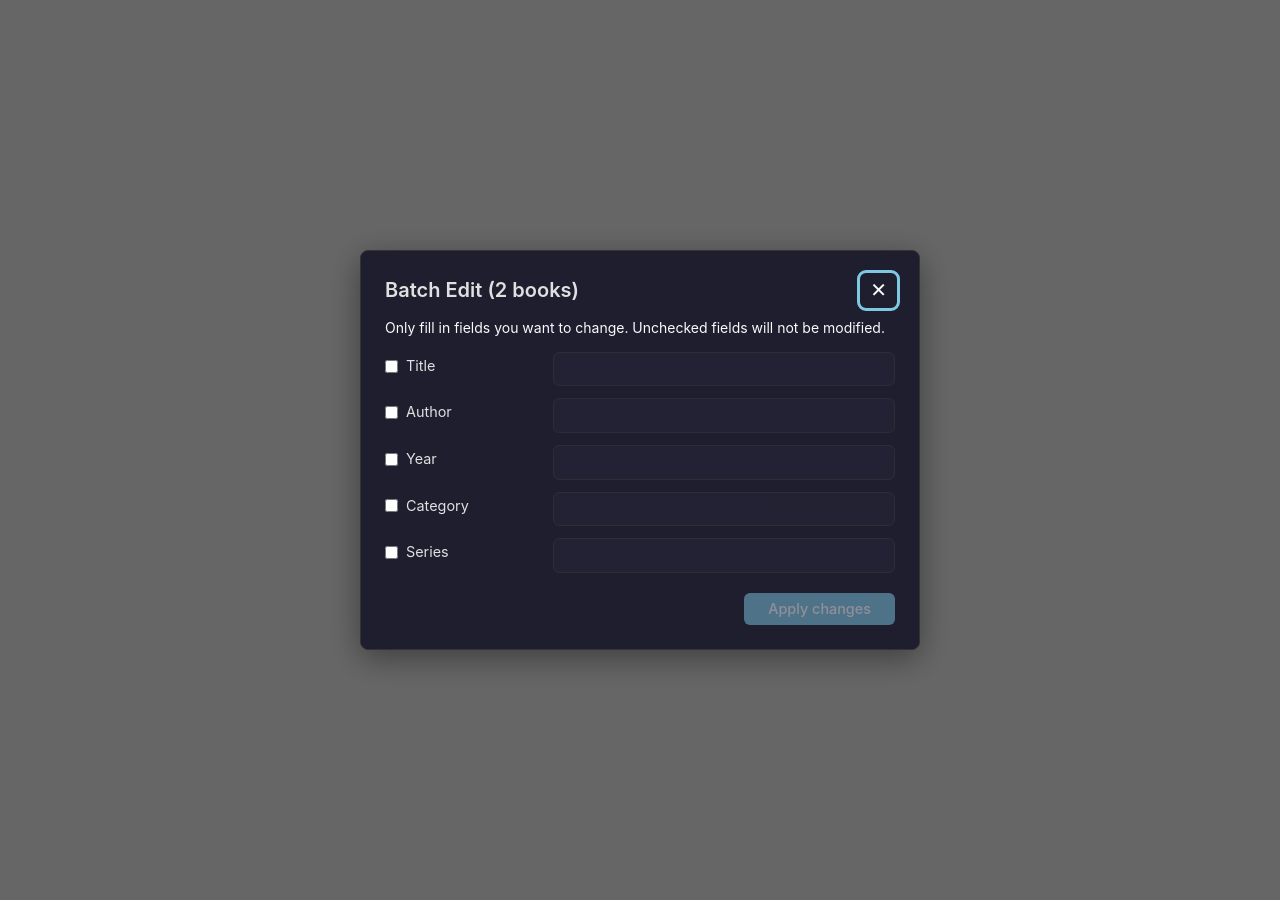
Scenario: BatchEditPanel › shows partial failure results
This screenshot has width=1280, height=900.
Click the checkbox labelled "Title": {"x": 392, "y": 366} left=385, top=360, right=398, bottom=373
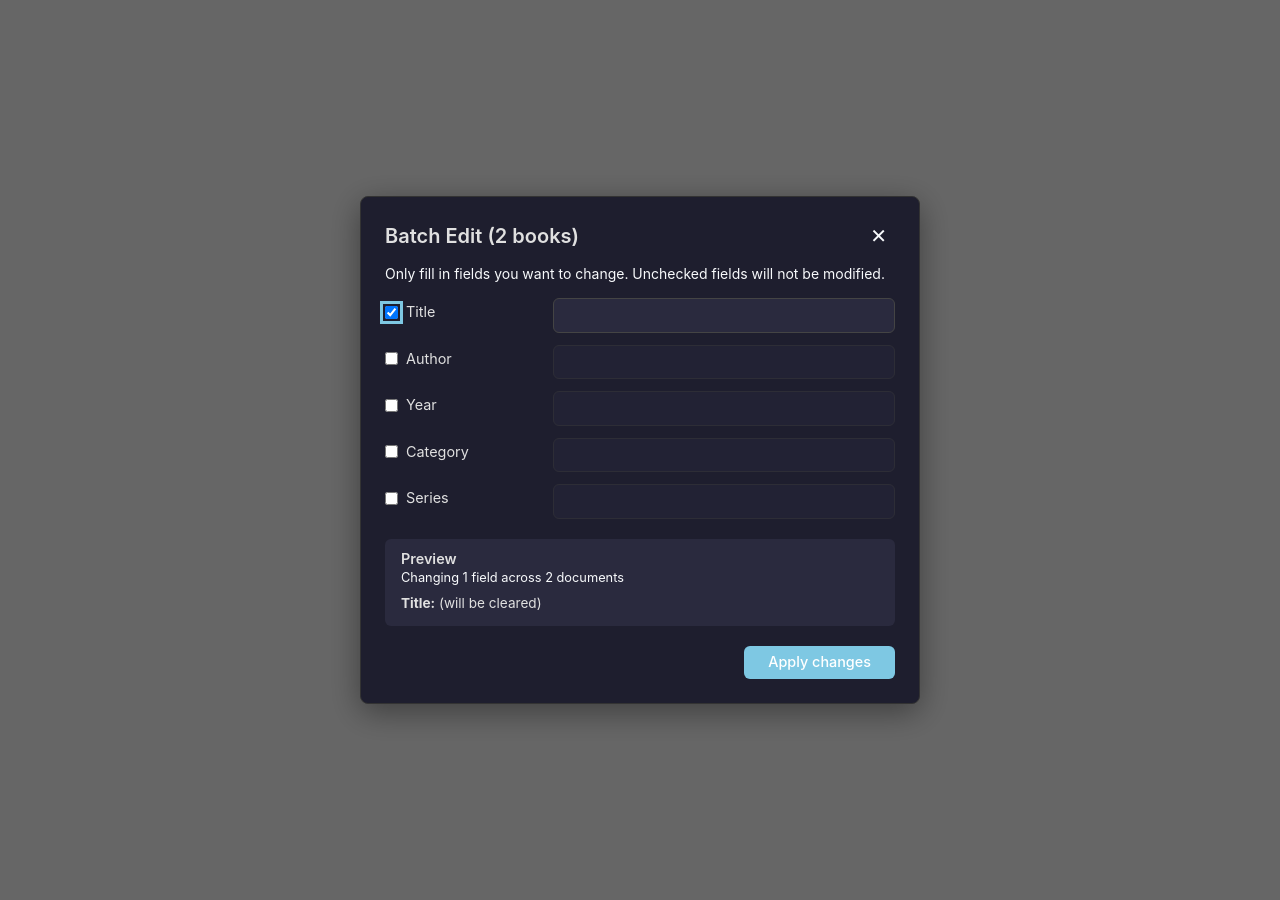
Click the button "Apply changes": {"x": 820, "y": 663} left=744, top=646, right=895, bottom=679
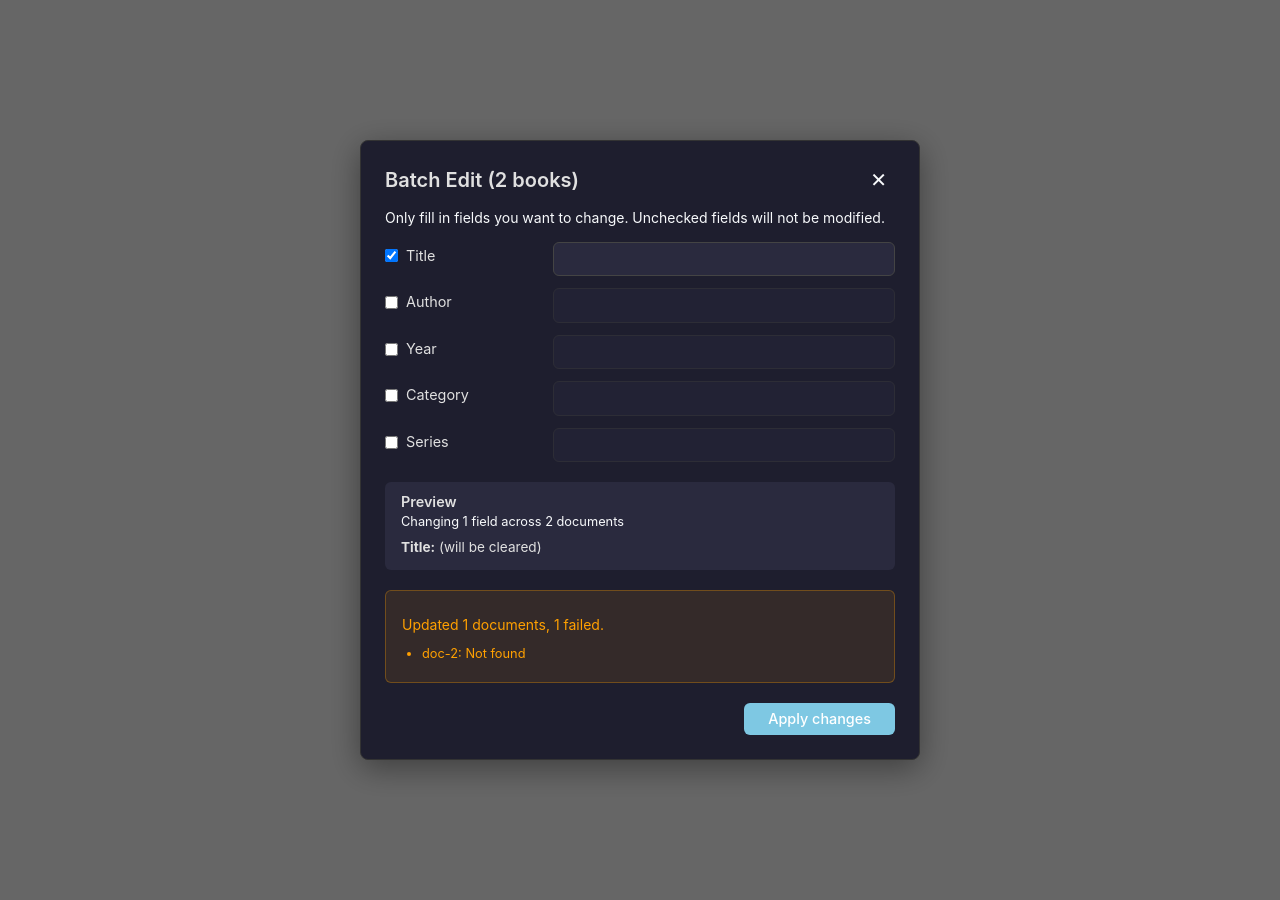
Expected: the text "Updated 1 documents, 1 failed." is shown, left=402, top=616, right=604, bottom=633
